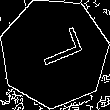L_W: (25, 29, 83, 77)
